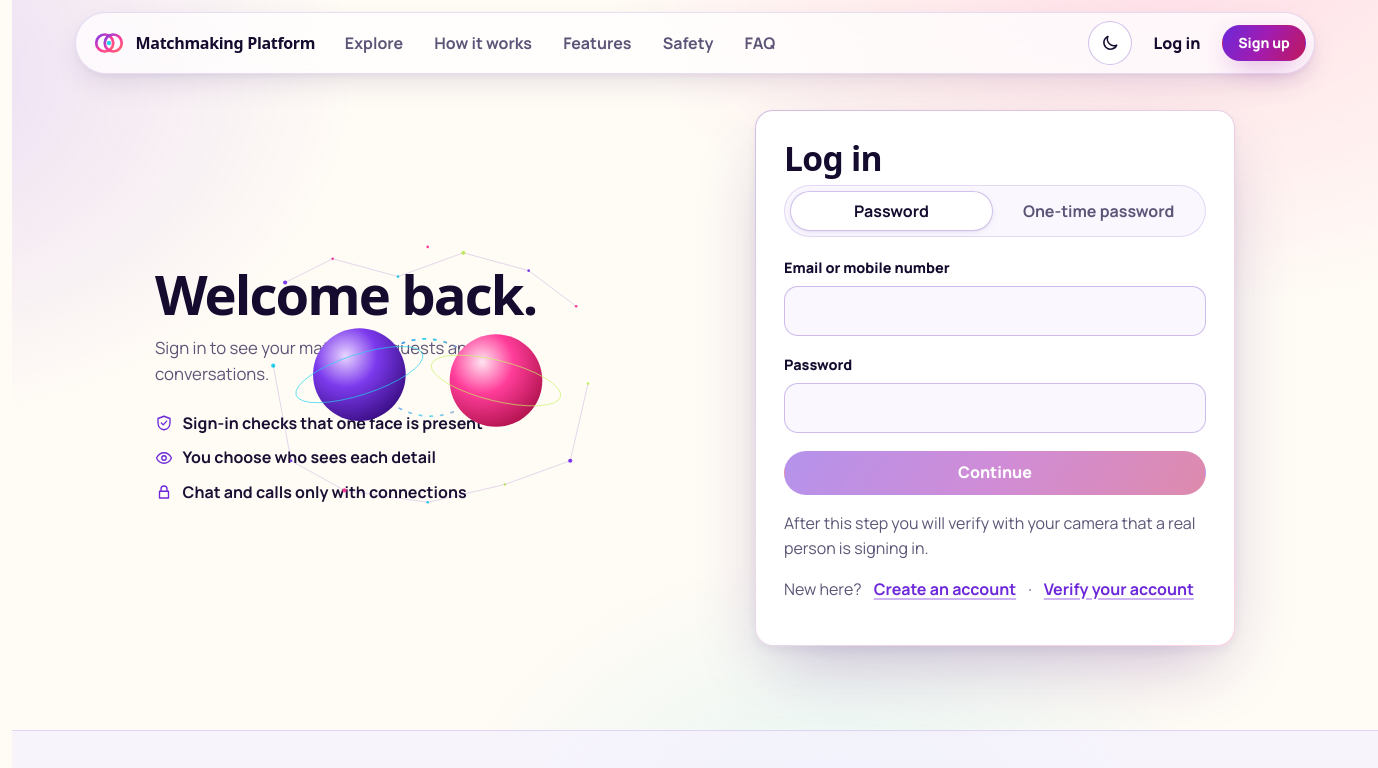
Test: login page › verifies the password, then goes to live verification (no access token yet)
In the field labelled "Email or mobile number": (995, 311) [784,286,1206,336], type "asha@example.com"
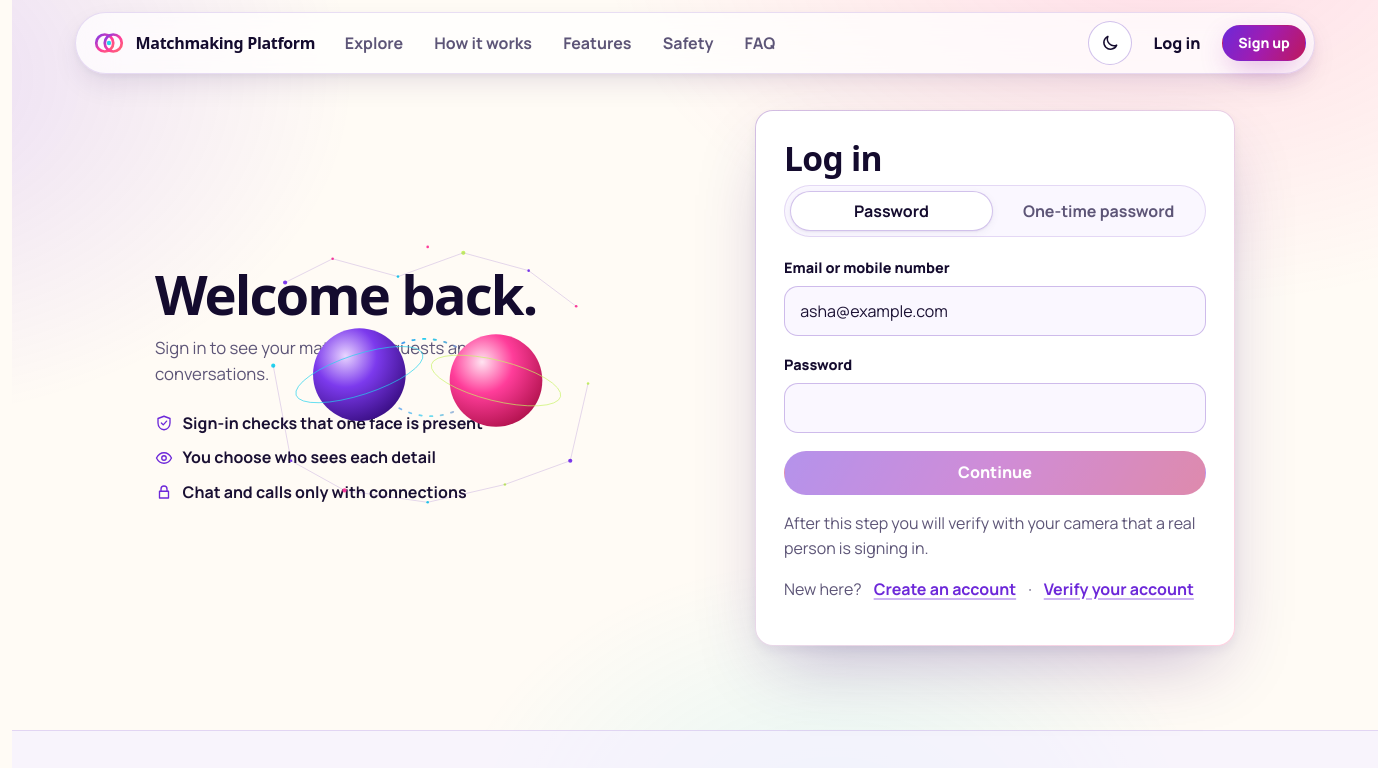
In the password field labelled "Password": (995, 408) [784,383,1206,433], type "Secure123"
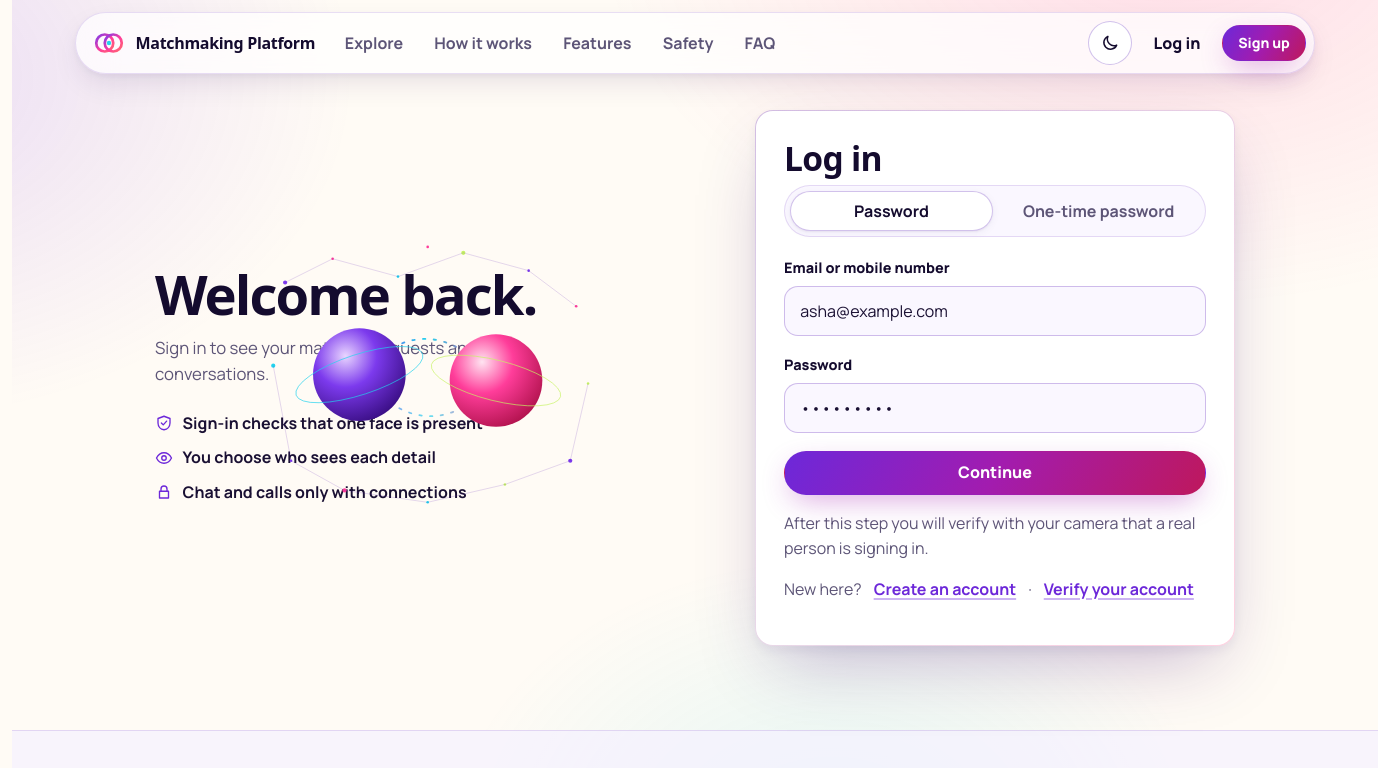
Click the button "Continue": (995, 473) [784,451,1206,495]
(page scrolled)
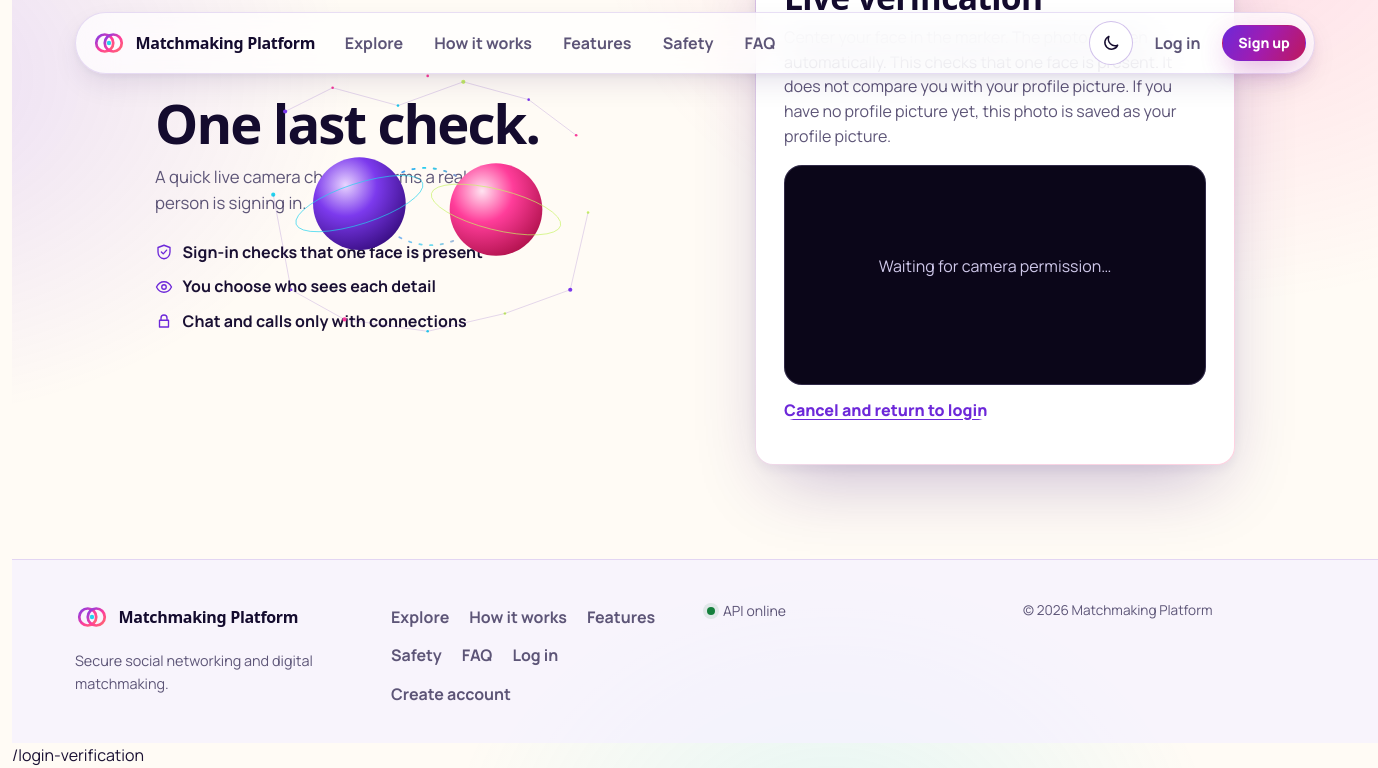
Result: the text with test id "location" reads "/login-verification" at [12,744,144,766]
